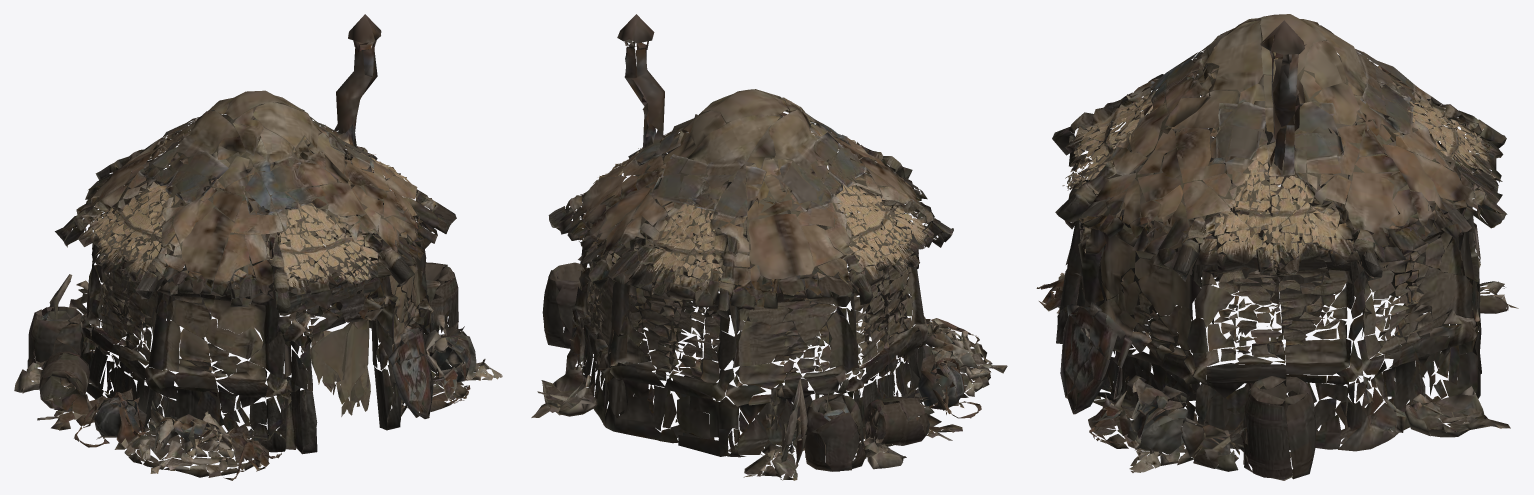
The model's file is hut.glb.
3 renders of one model, left to right at view 1: azimuth 30°, elevation 25°; view 2: azimuth 150°, elevation 25°; view 3: azimuth 270°, elevation 25°, orthographic. The views are drawn at different scales.
Parts seen in each view (by area): view 1: Hut; view 2: Hut; view 3: Hut.
Boxes of the visible parts, bbox=[...] form: Hut: bbox=[14, 14, 502, 480]; Hut: bbox=[531, 14, 1007, 480]; Hut: bbox=[1036, 14, 1518, 480].
Bounding box in the file's own units: 5 × 3.96 × 4.21.
Materials: 1 (1 with a texture image).
